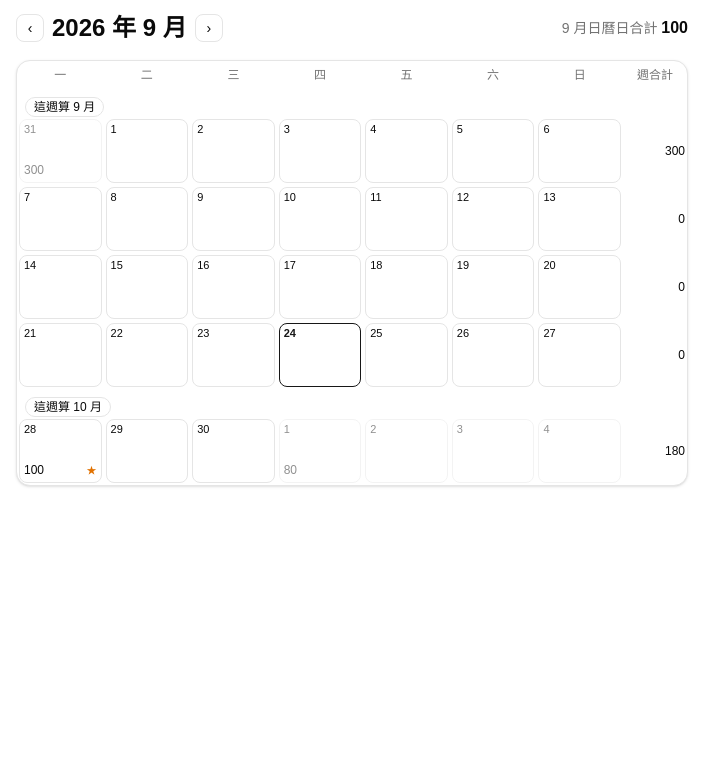
Test case: CalendarPage › 點某一天展開明細（沿用清單元件，可編輯／刪除）；再點收合
Click the button "28 100 ★" at coordinates (60, 451), box x1=19 y1=419 x2=102 y2=483
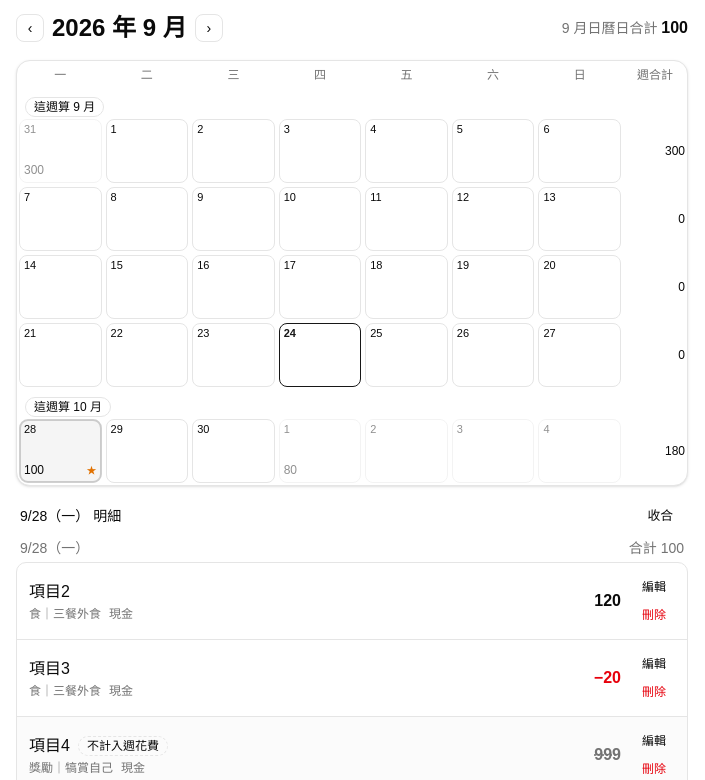
Check: the text "不計入週花費" is shown, box x1=78 y1=736 x2=168 y2=756
Click the button with aria-label "刪除 項目3" at coordinates (654, 692), box x1=633 y1=680 x2=675 y2=704
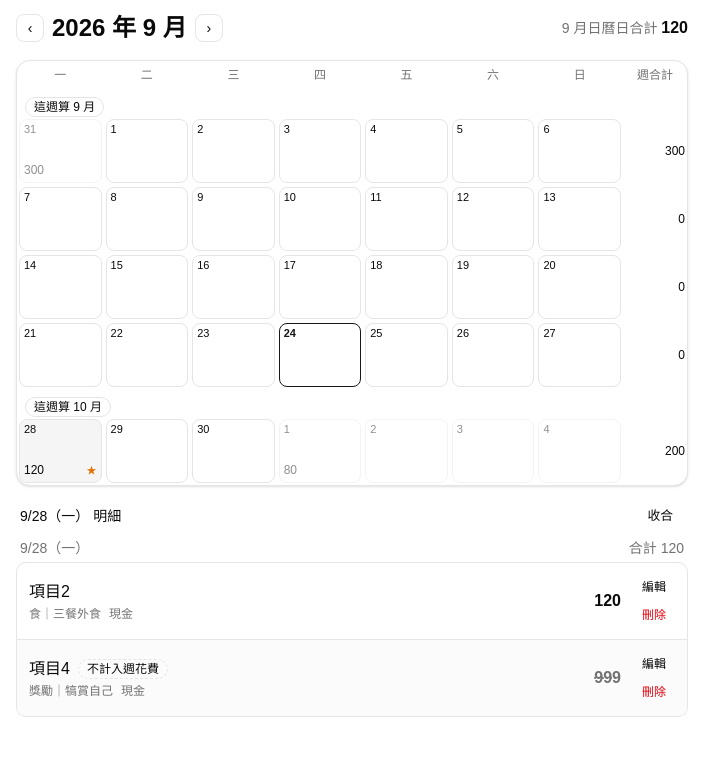
Click the button "28 120 ★" at coordinates (60, 451), box x1=19 y1=419 x2=102 y2=483
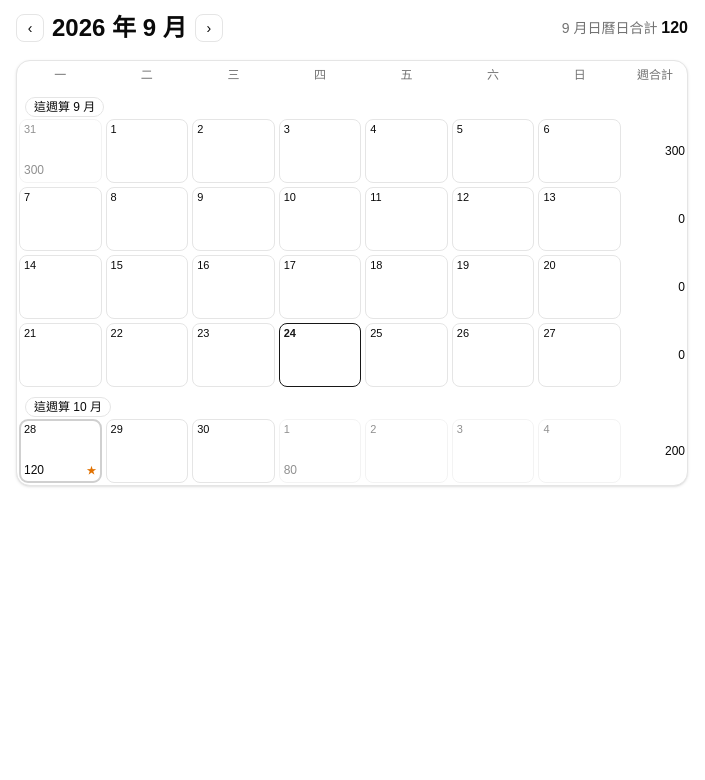
Check: the element with test id "day-detail" is gone
